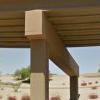Bridge: (7, 3, 92, 75)
